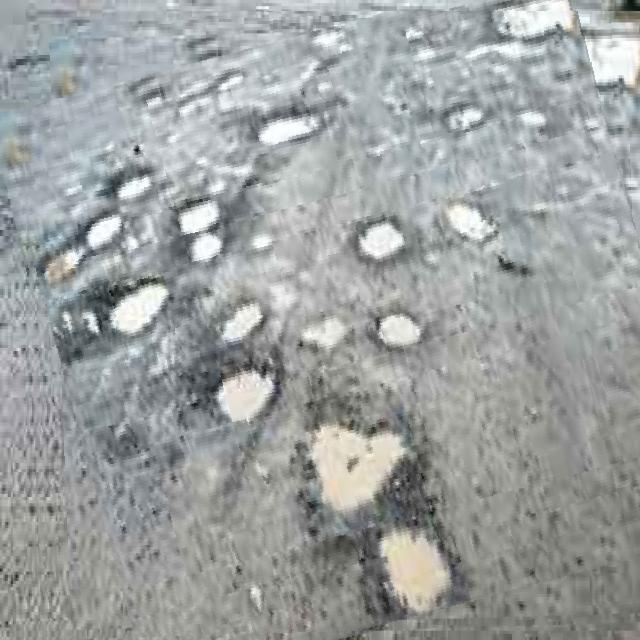Pothole: (19, 11, 640, 640)
